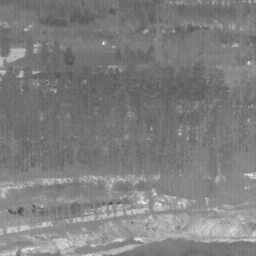aircraft: (100, 98, 102, 100)
